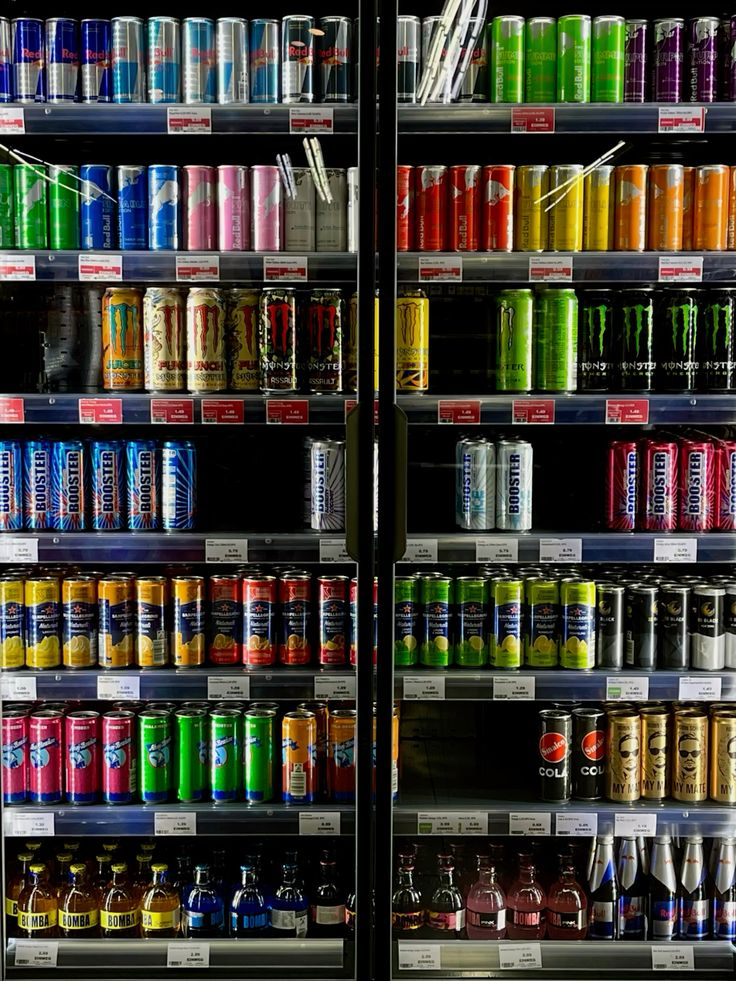soft_drink: (259, 288, 298, 394), (499, 290, 536, 391), (608, 442, 642, 533), (492, 15, 527, 102), (147, 16, 182, 102), (182, 165, 214, 251), (163, 439, 193, 530)
